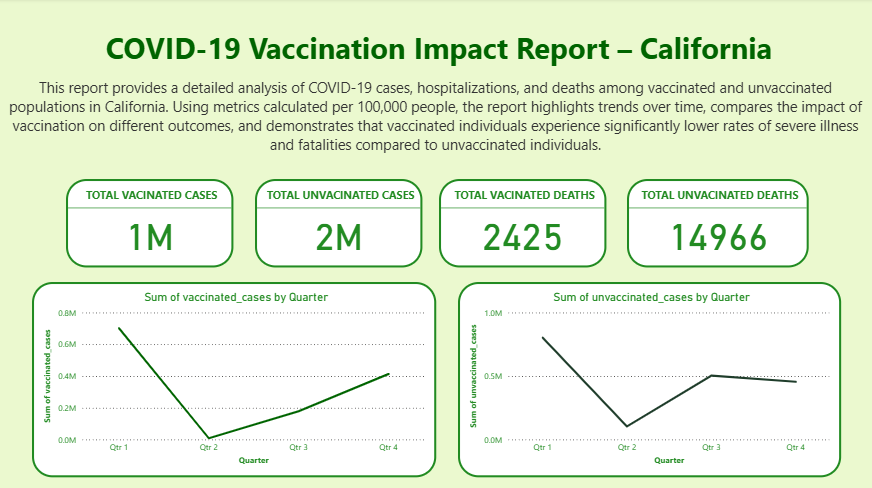

What the dashboard file says about the page in this screenshot:
{"tool":"powerbi","page":{"name":"Page 1","canvas":[1280,720],"ordinal":0},"visuals":[{"type":"textbox","box":[10.3,38.2,1269.6,83.8],"z":0},{"type":"textbox","box":[0,111.7,1279.8,129.3],"z":1000},{"type":"card","title":"TOTAL VACINATED CASES","fields":{"Values":["Sum(COVID_19_cleaned.vaccinated_cases)"]},"box":[96.9,266,245.8,130.1],"z":2000},{"type":"card","title":"TOTAL UNVACINATED CASES","fields":{"Values":["Sum(COVID_19_cleaned.unvaccinated_cases)"]},"box":[374.5,266,245.8,130.1],"z":3000},{"type":"card","title":"TOTAL VACINATED DEATHS","fields":{"Values":["Sum(COVID_19_cleaned.vaccinated_deaths)"]},"box":[644.8,266,245.8,130.1],"z":4000},{"type":"card","title":"TOTAL UNVACINATED DEATHS","fields":{"Values":["Sum(COVID_19_cleaned.unvaccinated_deaths)"]},"box":[921,266,267.5,130.1],"z":5000},{"type":"lineChart","fields":{"Category":["COVID_19_cleaned.date.Variation.Date Hierarchy.Quarter"],"Y":["Sum(COVID_19_cleaned.vaccinated_cases)"]},"box":[47,417.3,593.6,286.5],"z":6000},{"type":"lineChart","fields":{"Category":["COVID_19_cleaned.date.Variation.Date Hierarchy.Quarter"],"Y":["Sum(COVID_19_cleaned.unvaccinated_cases)"]},"box":[673,417.3,562.8,286.5],"z":7000}]}

Visuals, with their boxes in screenshot pixels (x1, y1, x2, y2), scaled from the page's 1280x720 canvas onto the 872x488 screenshot:
textbox: left=7, top=26, right=871, bottom=83
textbox: left=0, top=76, right=871, bottom=163
"TOTAL VACINATED CASES" card: left=66, top=180, right=233, bottom=268
"TOTAL UNVACINATED CASES" card: left=255, top=180, right=423, bottom=268
"TOTAL VACINATED DEATHS" card: left=439, top=180, right=607, bottom=268
"TOTAL UNVACINATED DEATHS" card: left=627, top=180, right=810, bottom=268
lineChart - COVID_19_cleaned.date.Variation.Date Hierarchy.Quarter x Sum(COVID_19_cleaned.vaccinated_cases): left=32, top=283, right=436, bottom=477
lineChart - COVID_19_cleaned.date.Variation.Date Hierarchy.Quarter x Sum(COVID_19_cleaned.unvaccinated_cases): left=458, top=283, right=842, bottom=477
